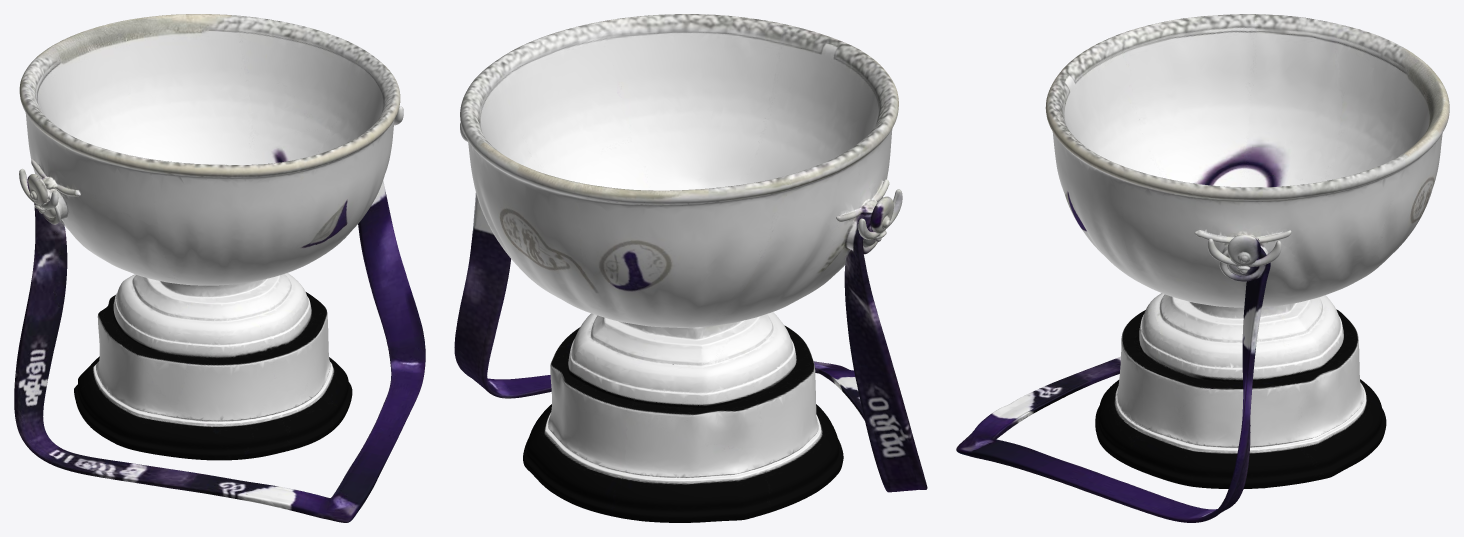
File: irlandeAIL.glb
The picture shows the model from 3 angles, left to right: view 1: azimuth 30°, elevation 25°; view 2: azimuth 150°, elevation 25°; view 3: azimuth 270°, elevation 25°; orthographic projection. The views are drawn at different scales.
Parts seen in each view (by area): view 1: mesh_node; view 2: mesh_node; view 3: mesh_node.
Part boxes in pixels (box(x1,y1,x2,y2)): mesh_node: box(14, 14, 425, 522); mesh_node: box(454, 14, 927, 522); mesh_node: box(956, 14, 1449, 522).
Size of the model in its own units: 1.9 by 1.51 by 1.9.
1 material, 1 textured.
